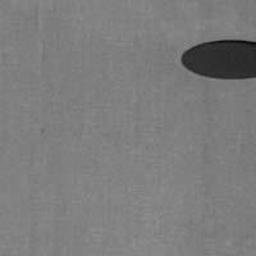Punching: (179, 38, 256, 82)
